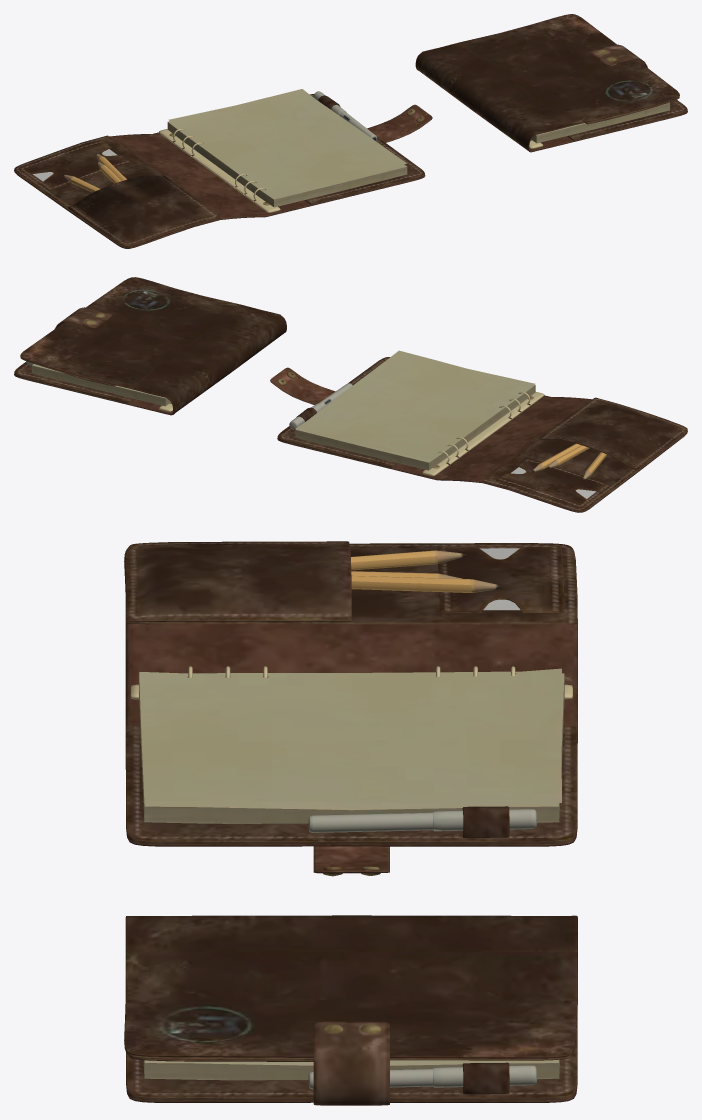
Rendered from binder_notebook.glb.
3 renders of one model, top to bottom at view 1: azimuth 30°, elevation 25°; view 2: azimuth 150°, elevation 25°; view 3: azimuth 270°, elevation 25°, orthographic. The views are drawn at different scales.
Visible parts, largest first — view 1: binder_notebook, binder_notebook_closed; view 2: binder_notebook, binder_notebook_closed; view 3: binder_notebook, binder_notebook_closed.
Boxes of the visible parts, x1,y1,x2,y2 form: binder_notebook: [14, 89, 432, 248]; binder_notebook_closed: [415, 14, 687, 152]; binder_notebook: [270, 350, 687, 512]; binder_notebook_closed: [14, 277, 286, 415]; binder_notebook: [124, 541, 577, 876]; binder_notebook_closed: [124, 915, 577, 1105].
Bounding box in the file's own units: 0.584 × 0.0253 × 0.2.
1 material, 1 textured.
